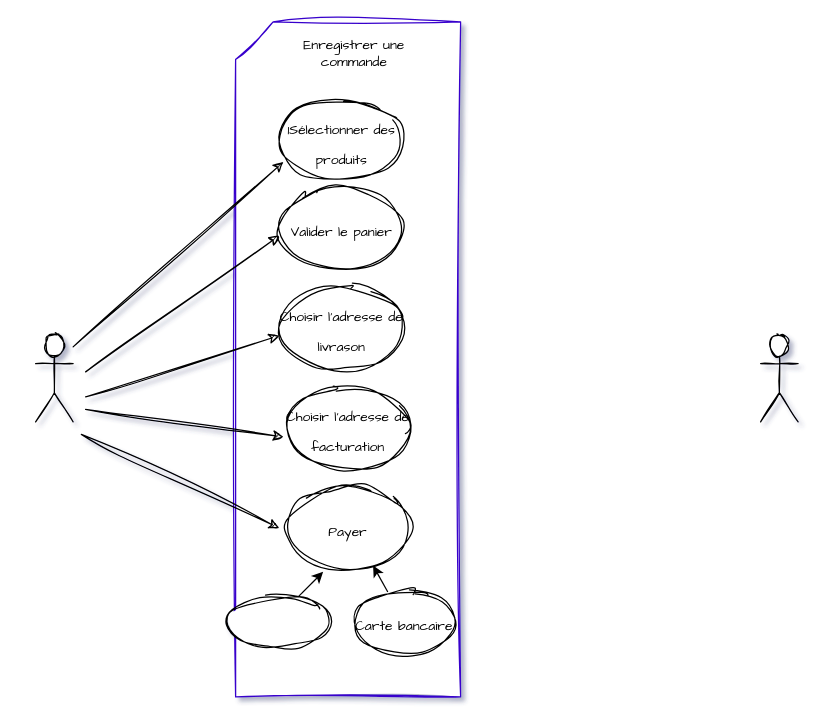
Image size: 838x726. Some labels were removed from this diagram. The shapes that lost their labels are listed below. From the top down, each one's centre as x and y in pixels, then its label:
the point at 53,377: Utilisateur
the point at 778,377: Système
the point at 279,621: Virement
